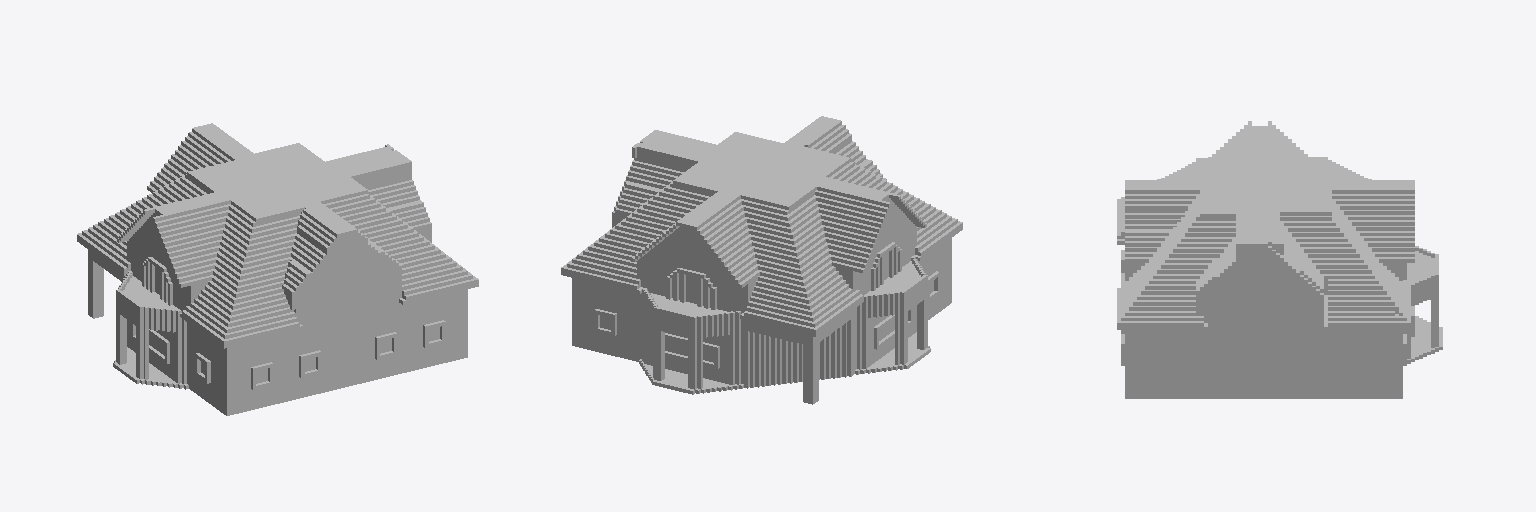
The model's file is map v1.0-8.obj.
3 views of the same model, side by side, from view 1: azimuth 30°, elevation 25°; view 2: azimuth 150°, elevation 25°; view 3: azimuth 270°, elevation 25° (orthographic).
Parts seen in each view (by area): view 1: object 1; view 2: object 1; view 3: object 1.
Part boxes in pixels (x1,y1,x2,y2): object 1: (77,123,478,415); object 1: (561,116,962,404); object 1: (1117,121,1442,398).
Bounding box in the file's own units: 8.2 × 4.3 × 8.2.